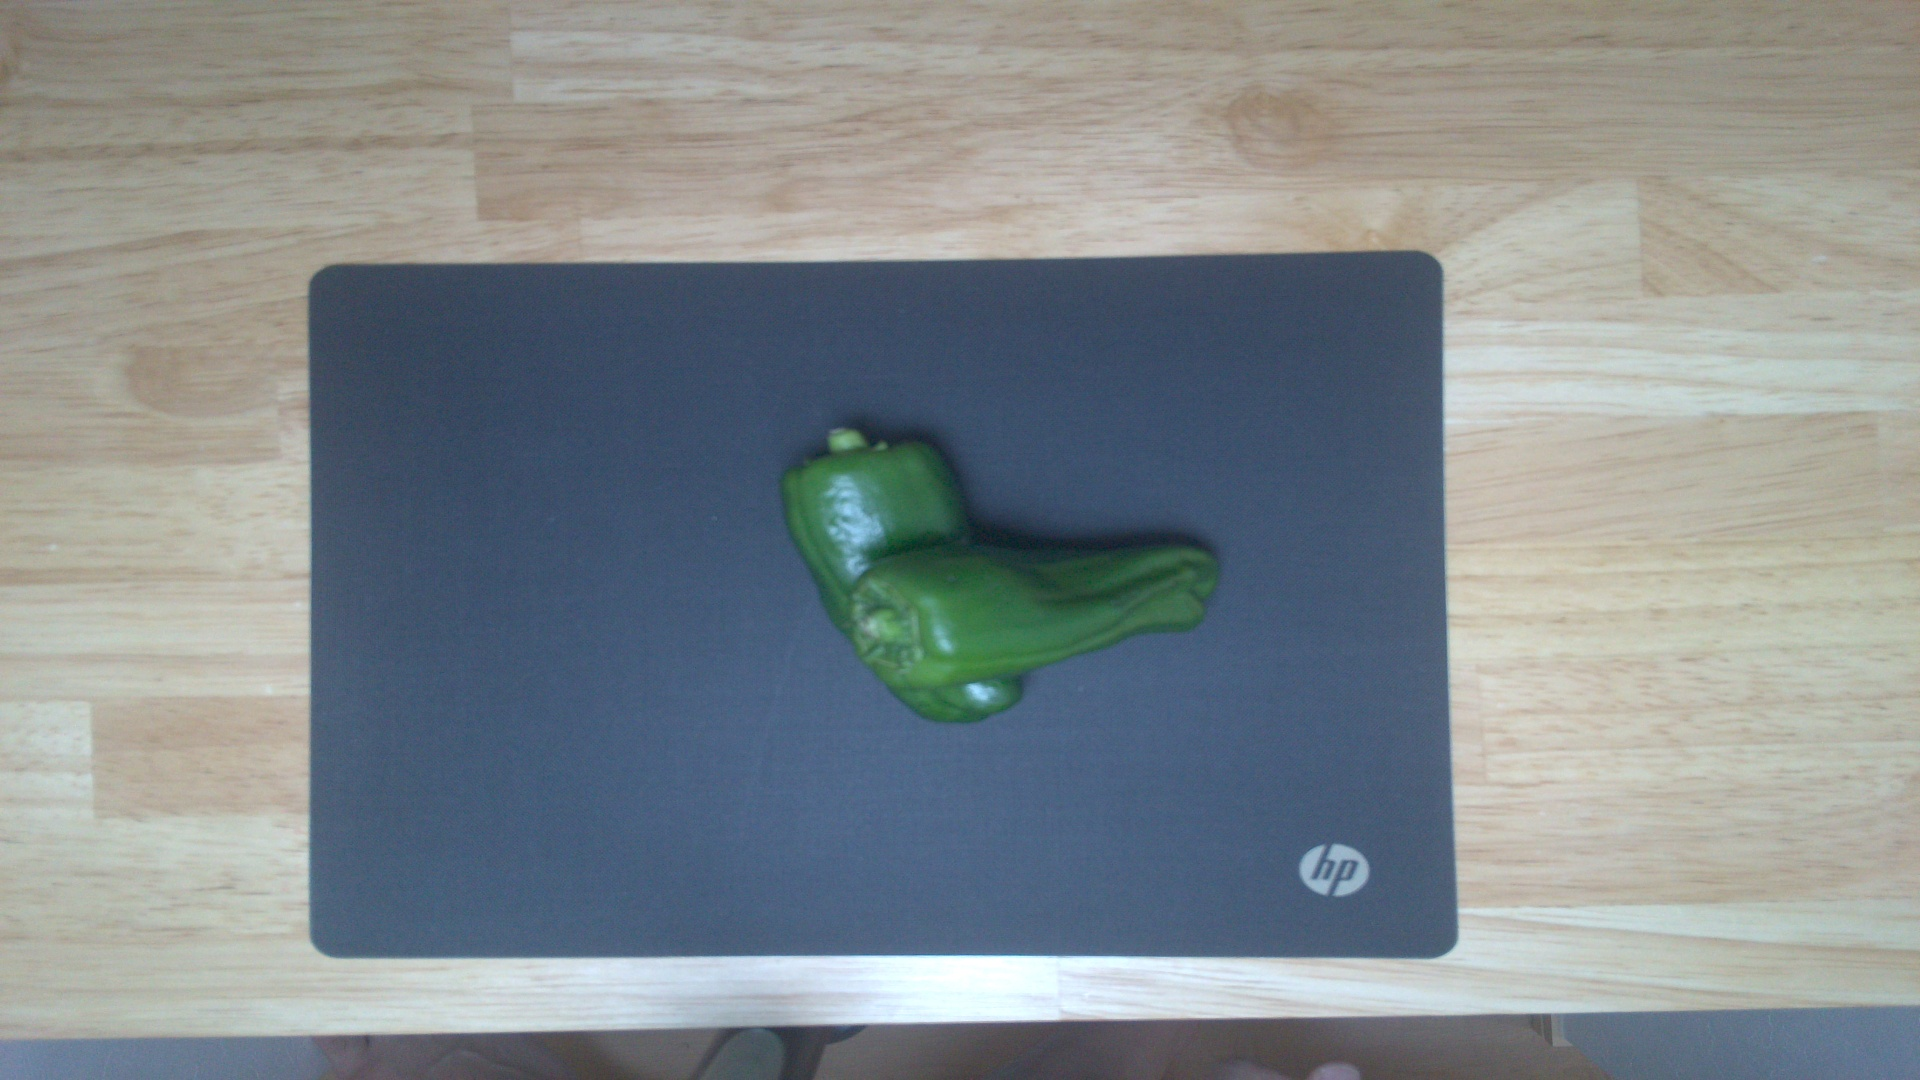Piman: (771, 419, 1033, 737), (845, 530, 1218, 684)
